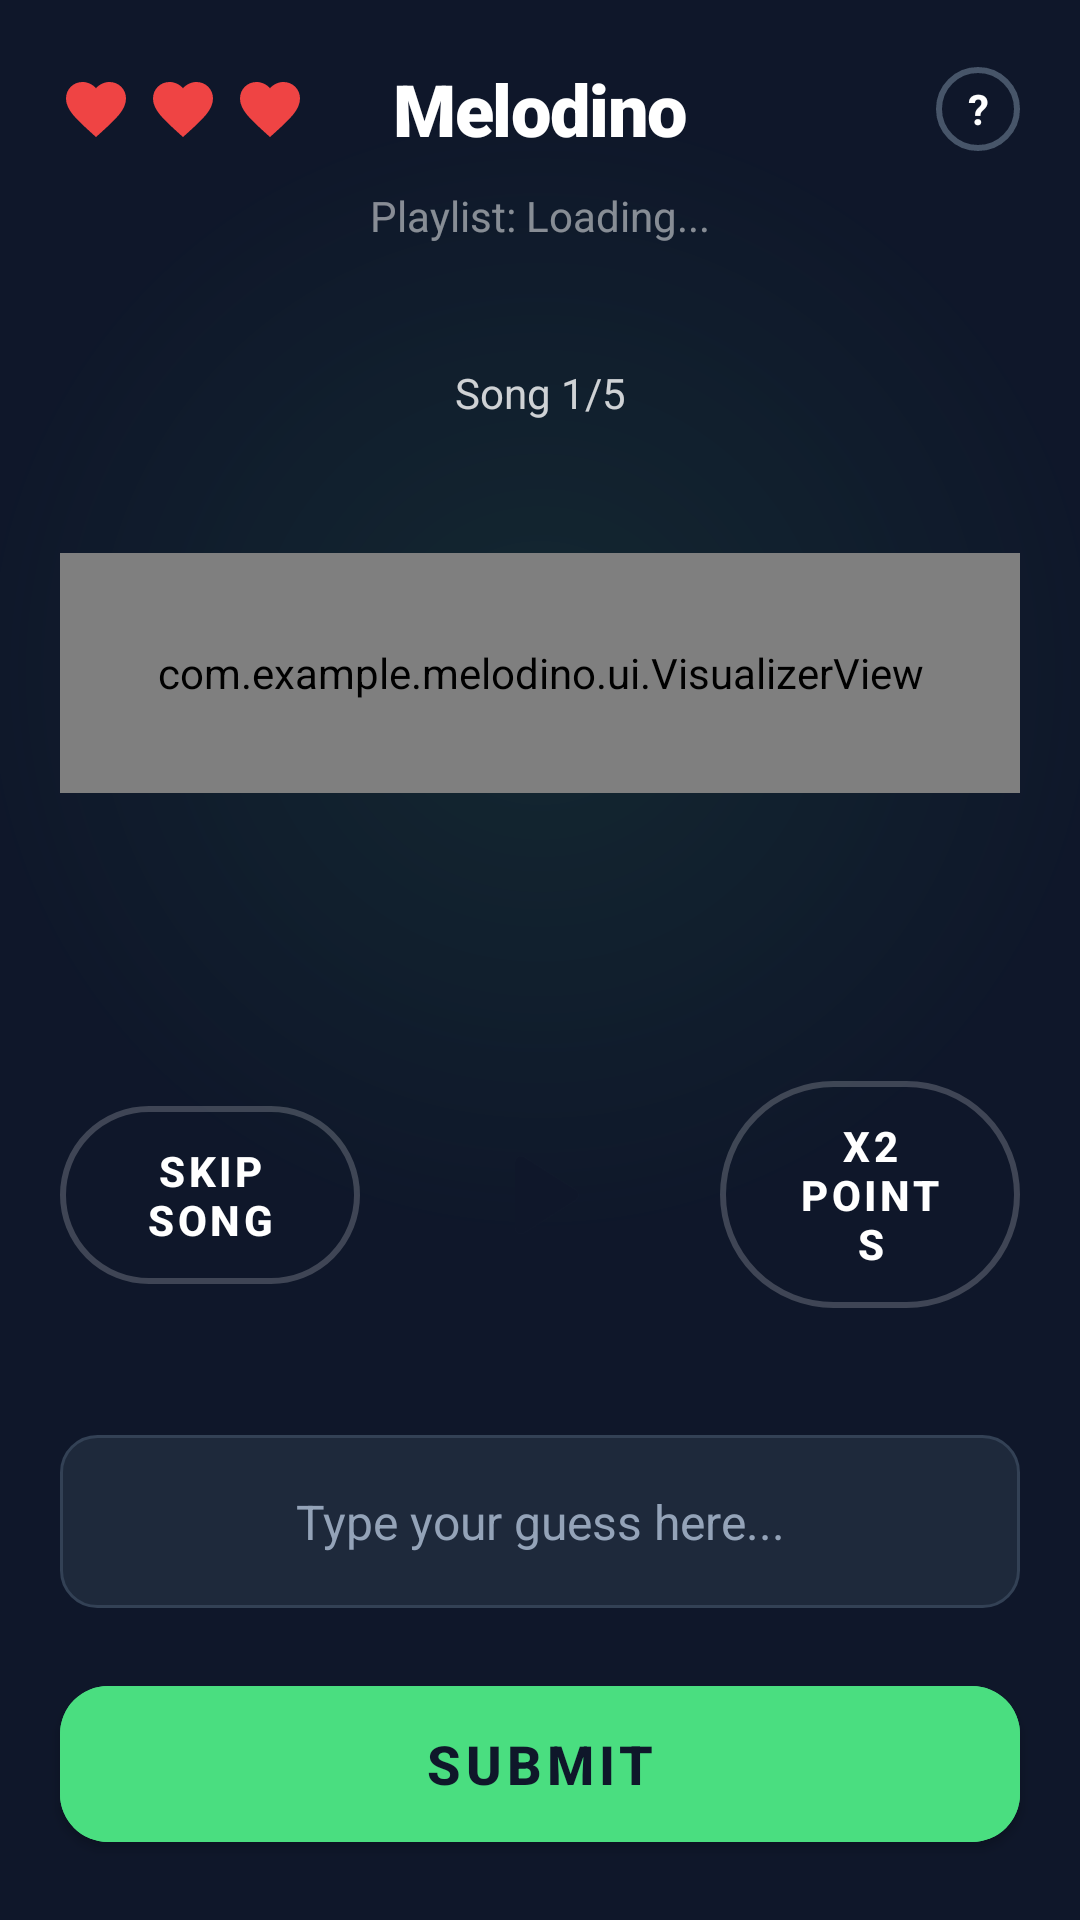

Where icons sit on this 1080x1920 app screen, as (x1, y1, x2, y2):
heart: (66, 82, 126, 137), (153, 82, 213, 137), (240, 82, 300, 137)
